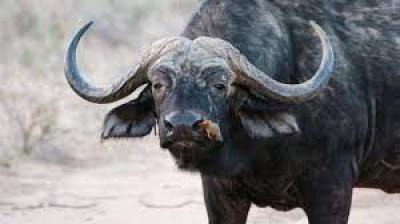buffalo: (64, 18, 400, 224)
